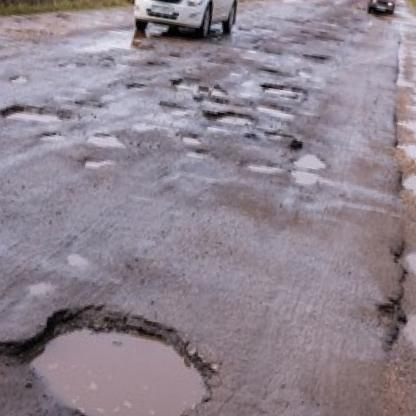pothole: (15, 294, 225, 416), (0, 99, 69, 133), (200, 103, 258, 130), (241, 153, 288, 178), (260, 78, 308, 101), (292, 148, 330, 176), (192, 90, 241, 111), (87, 129, 125, 153), (287, 168, 324, 189), (81, 154, 116, 175), (169, 75, 202, 96), (262, 125, 297, 143), (157, 101, 186, 117), (180, 130, 204, 149), (185, 145, 211, 162), (127, 80, 147, 94), (304, 52, 329, 63), (10, 71, 27, 87), (211, 84, 229, 98), (145, 60, 167, 70)
